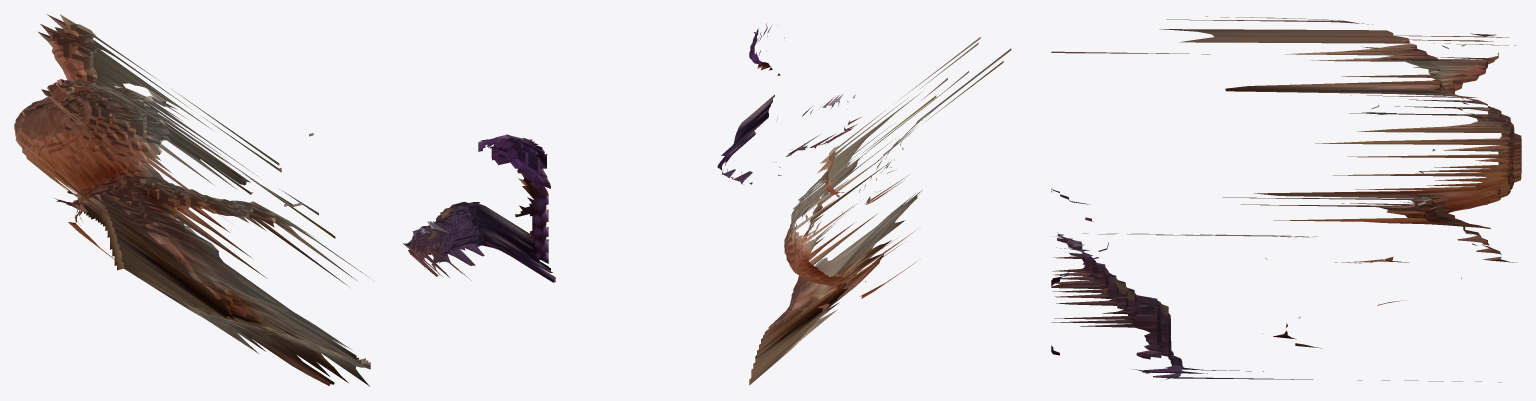
File: frame_00303.glb
3 renders of one model, left to right at view 1: azimuth 30°, elevation 25°; view 2: azimuth 150°, elevation 25°; view 3: azimuth 270°, elevation 25°, orthographic. The views are drawn at different scales.
Parts seen in each view (by area): view 1: geometry_0; view 2: geometry_0; view 3: geometry_0.
Boxes of the visible parts, left/top/right/bottom form: geometry_0: left=14, top=14, right=555, bottom=386; geometry_0: left=717, top=23, right=1011, bottom=385; geometry_0: left=1051, top=16, right=1521, bottom=382.
Size of the model in its own units: 0.1417 by 0.1134 by 0.16.
Materials: 1 (1 with a texture image).
